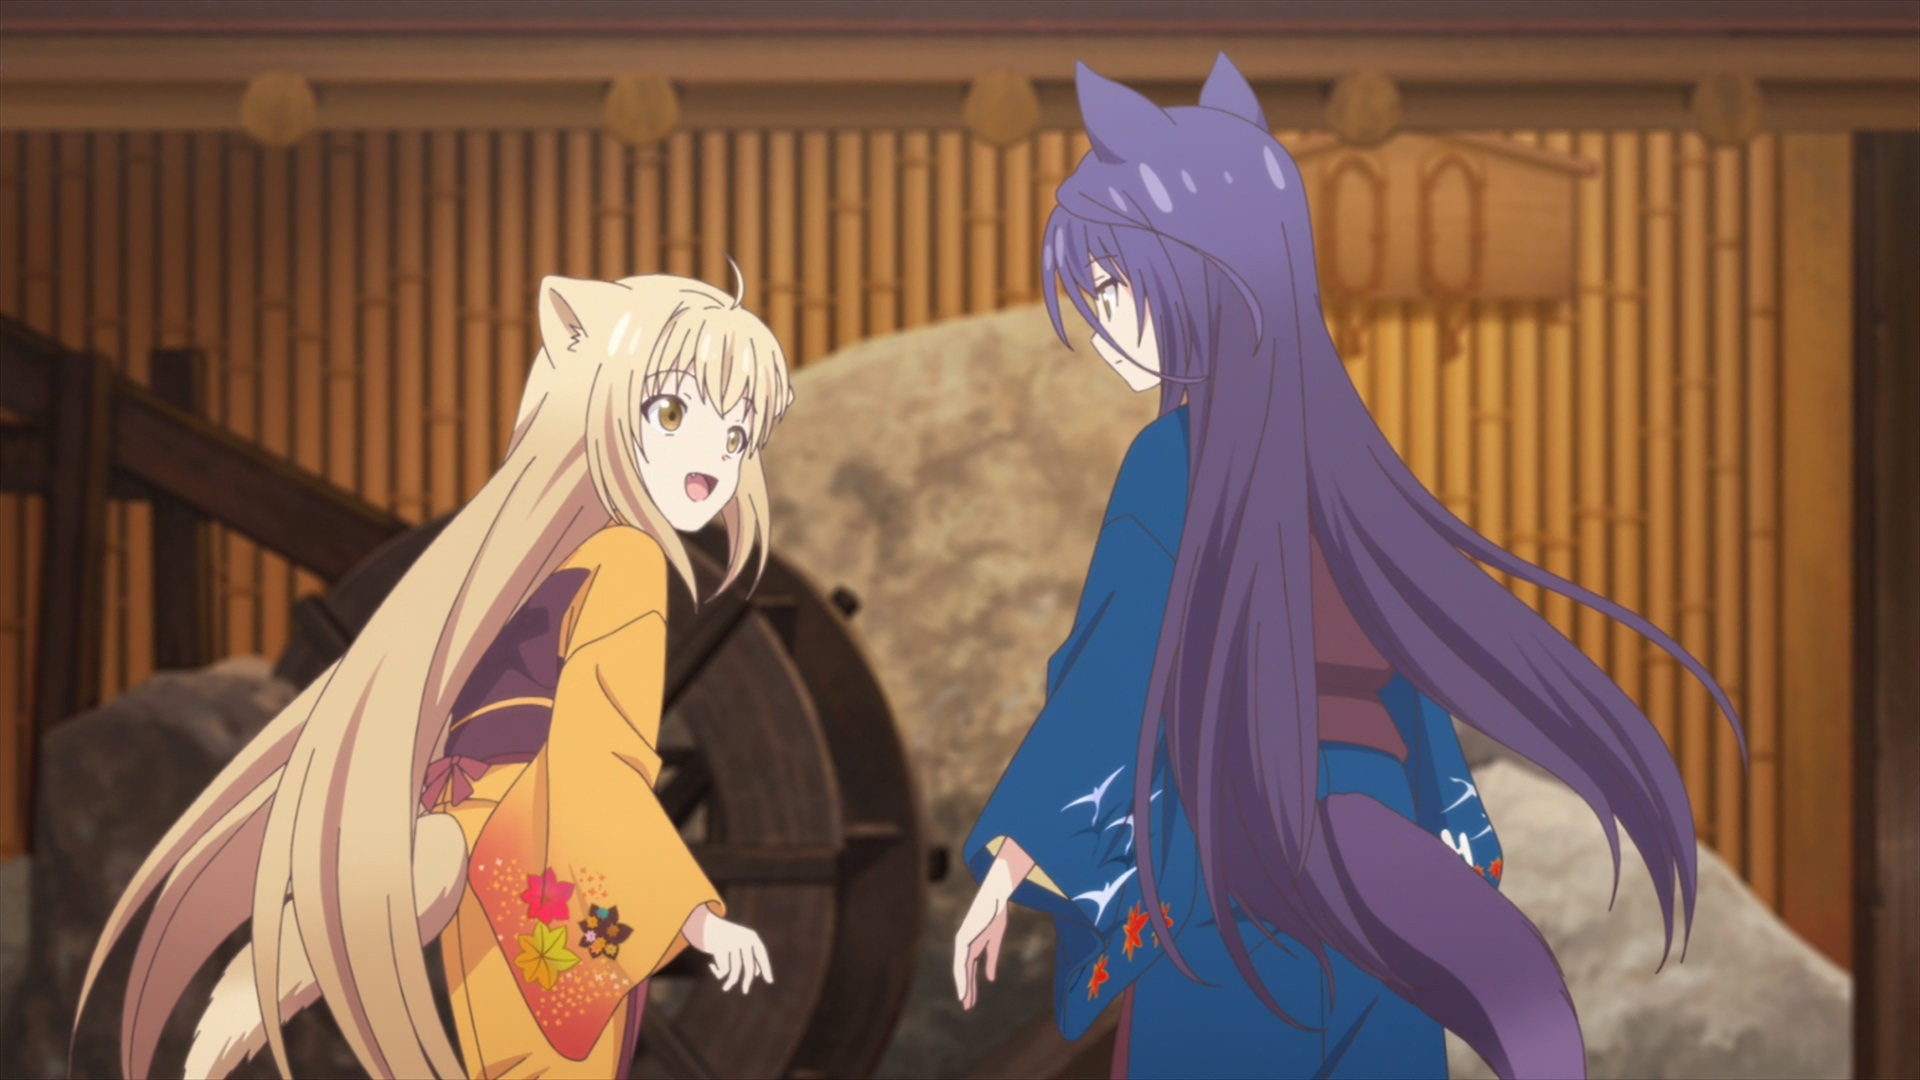柚: (66, 260, 793, 1080)
皋: (949, 50, 1746, 1080)
